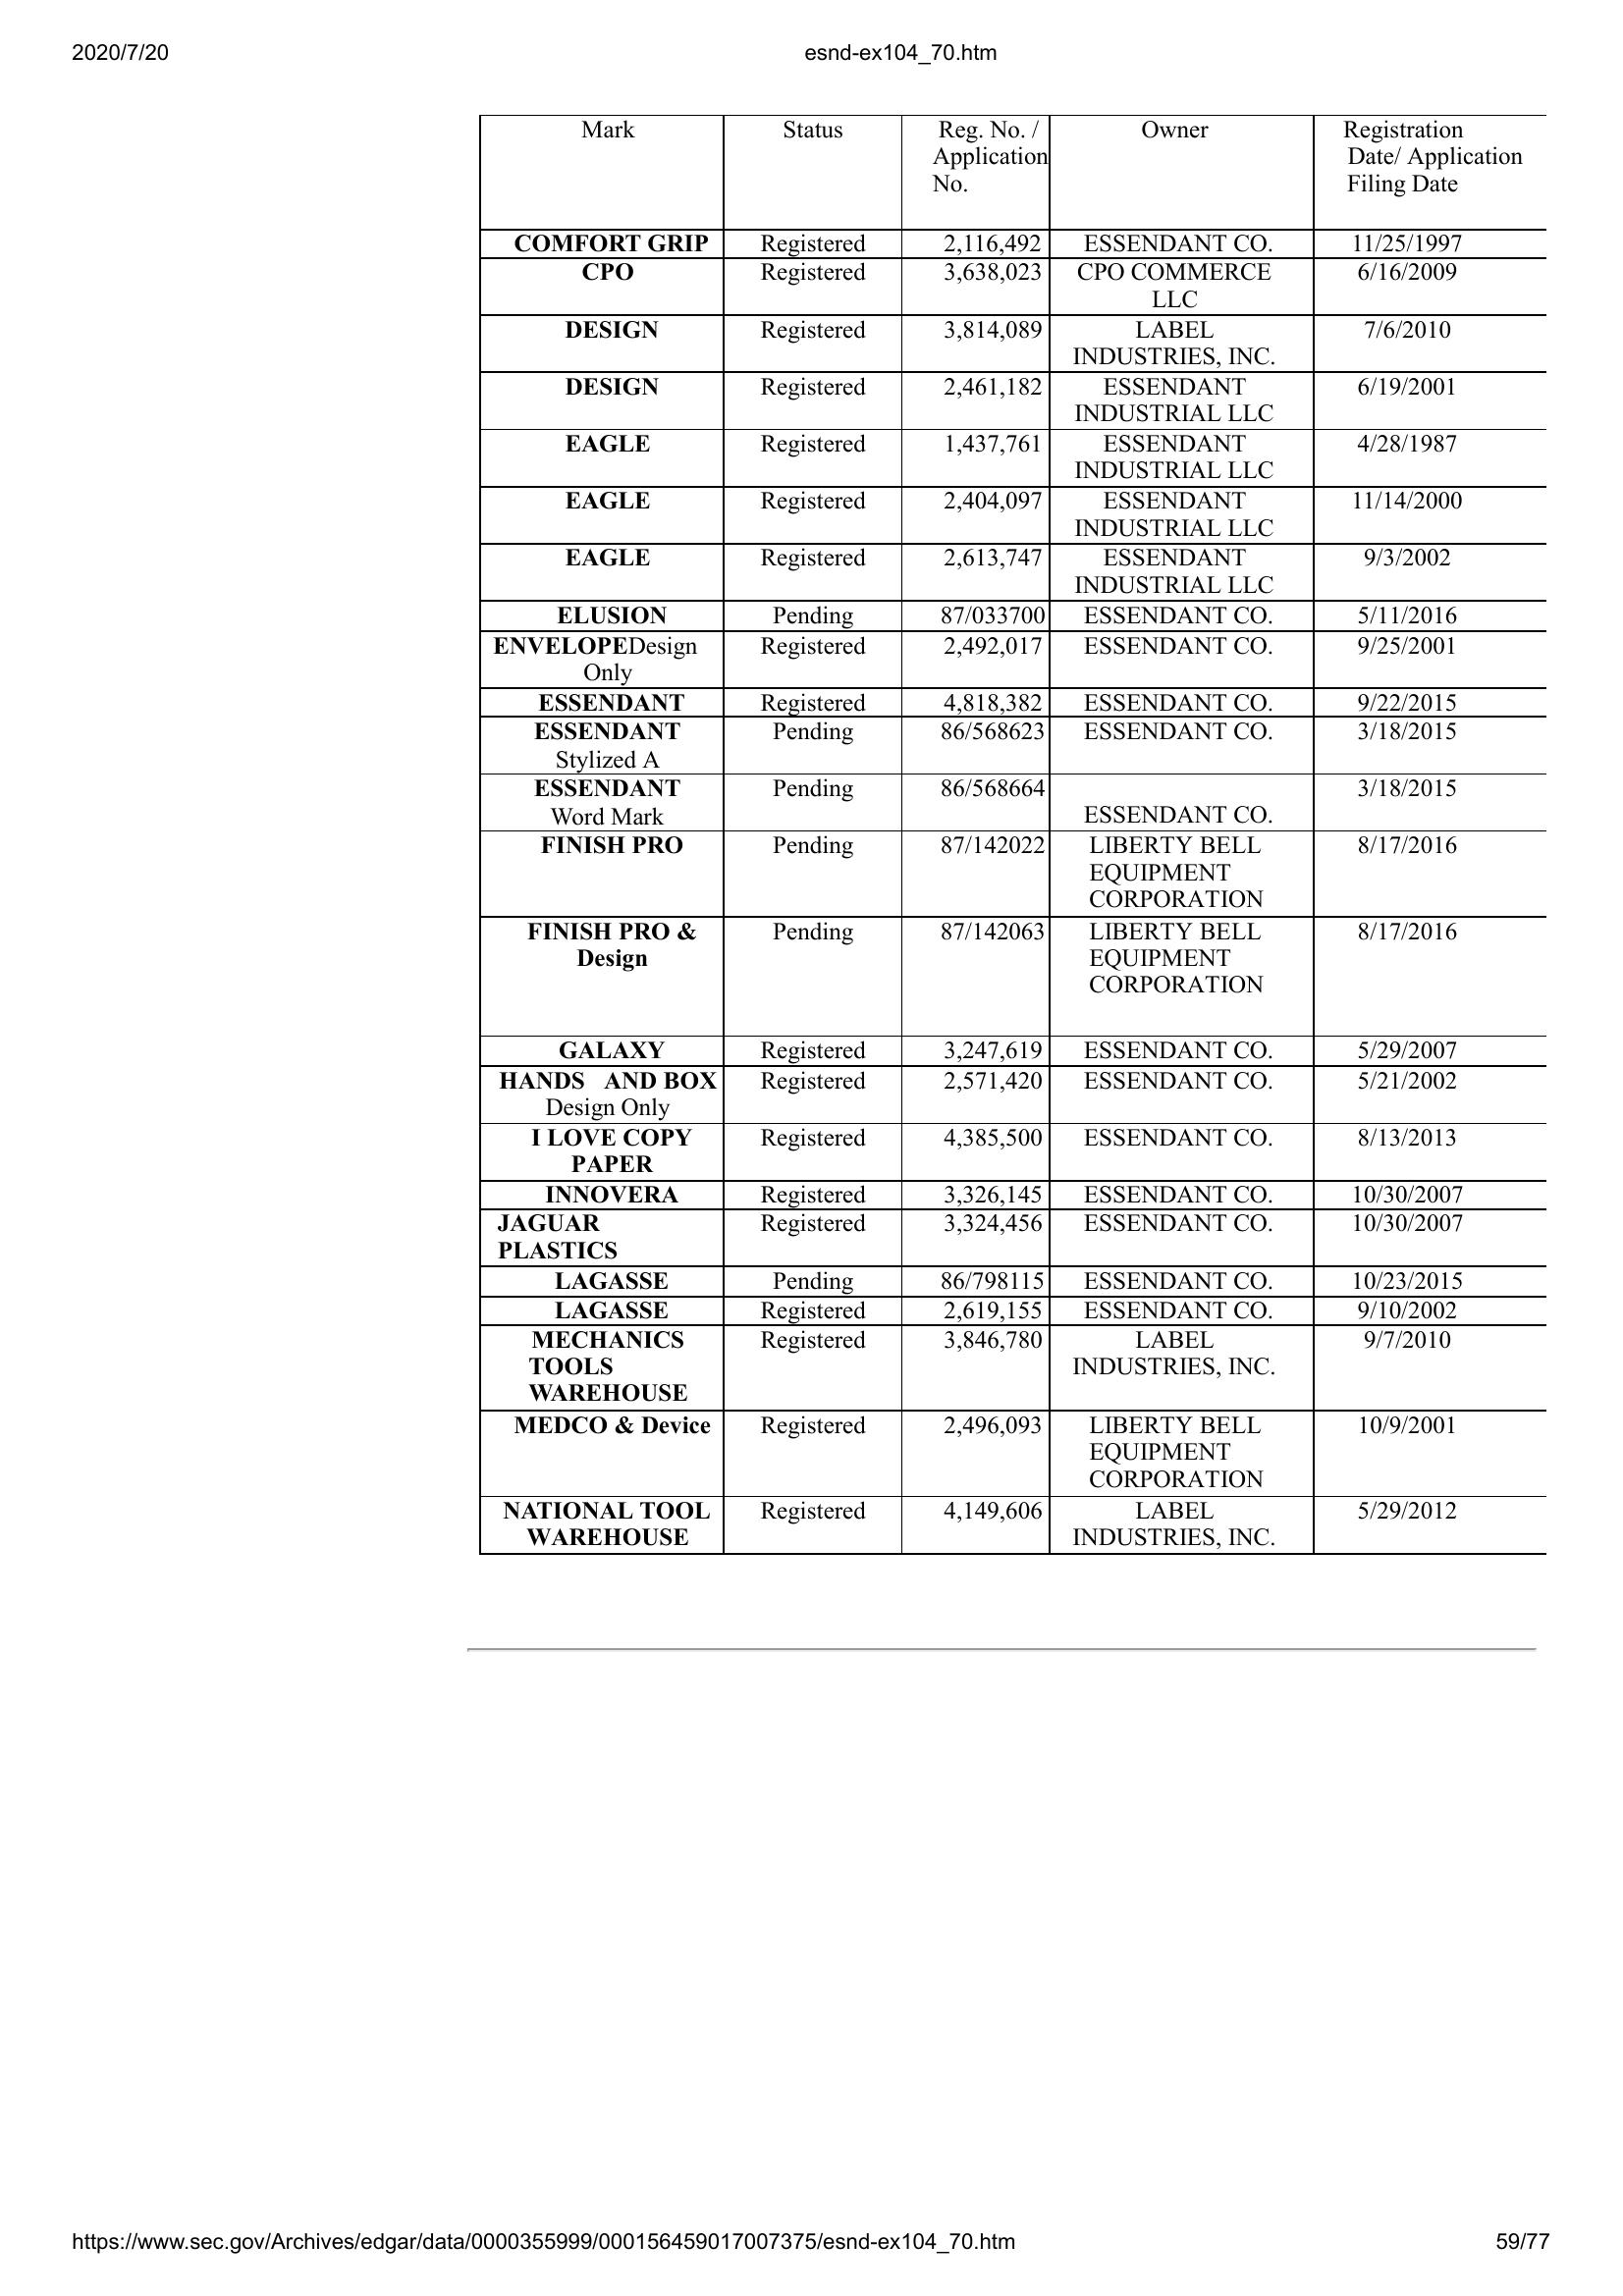table: (471, 104, 1560, 1573)
